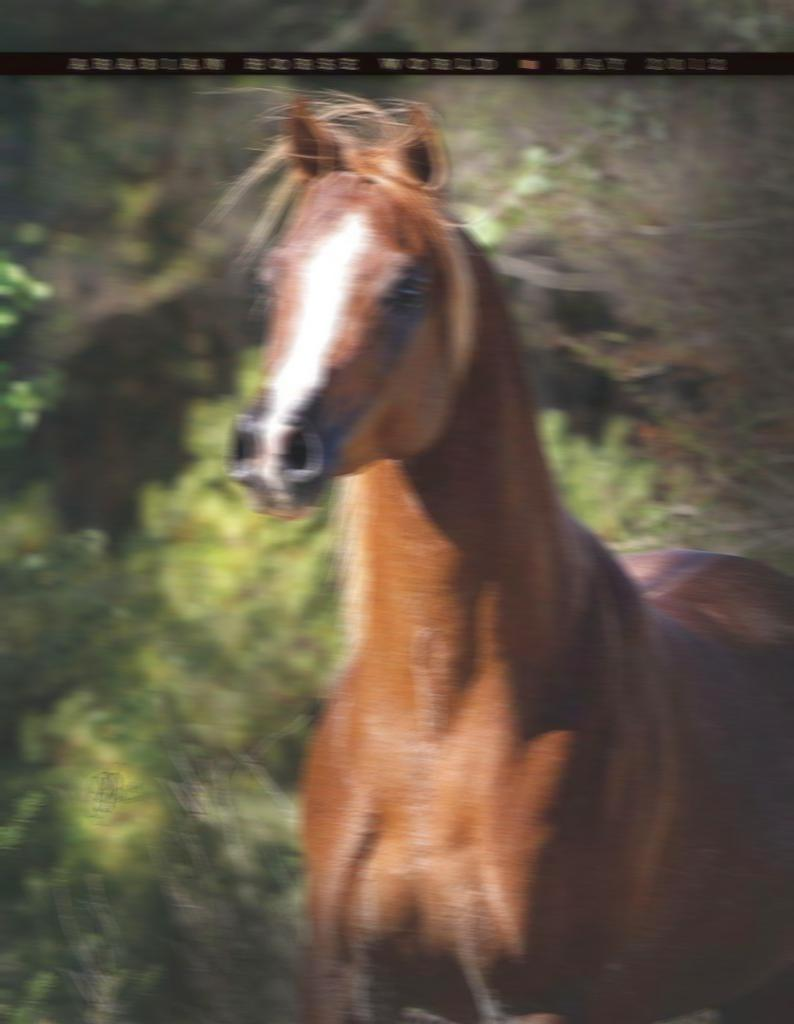horse: (202, 85, 794, 1022)
